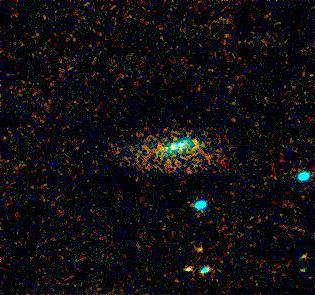star: (185, 233, 215, 263)
